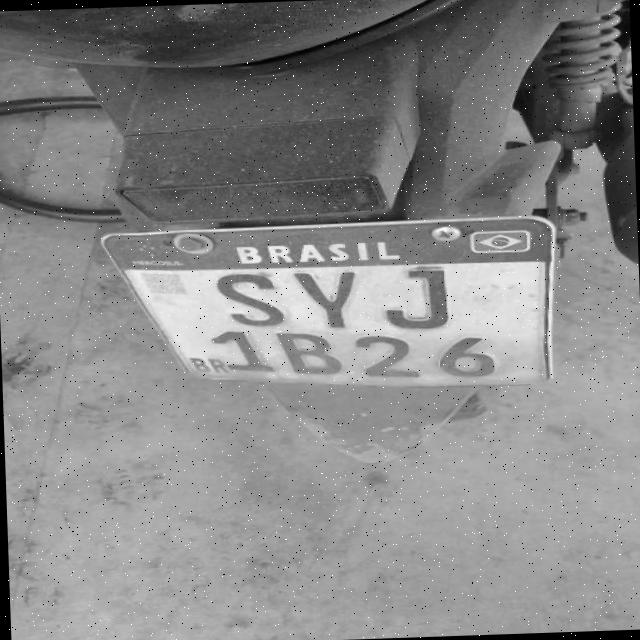placa_mercosul: (101, 216, 554, 386)
